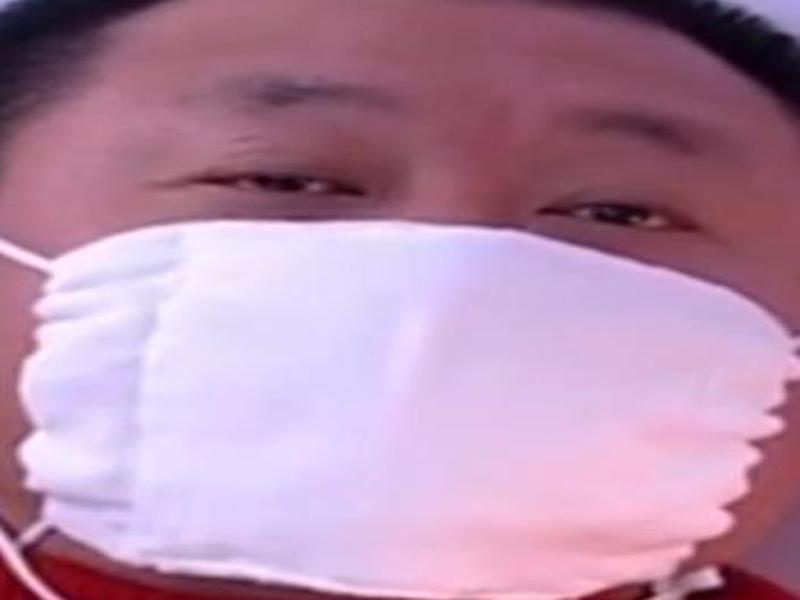with_mask: (6, 6, 796, 598)
